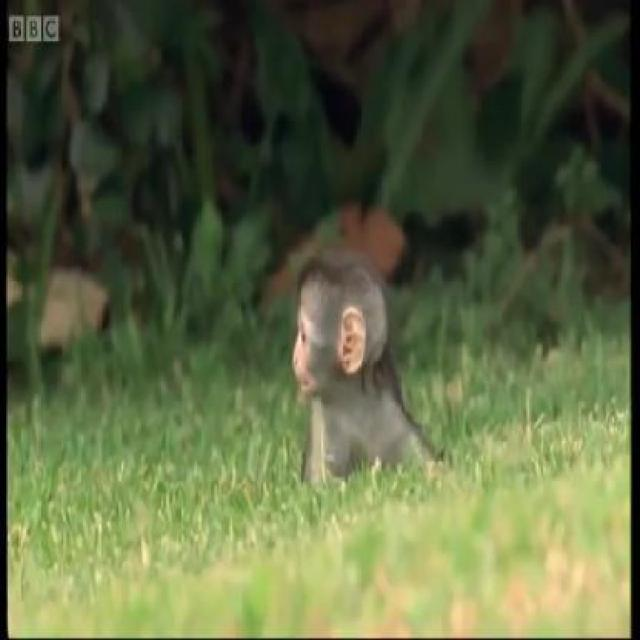Monkey: (272, 218, 476, 510)
